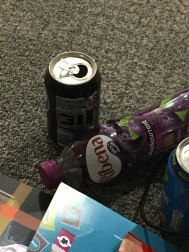bottle_purple: (21, 112, 187, 193)
can_black: (35, 50, 105, 151)
